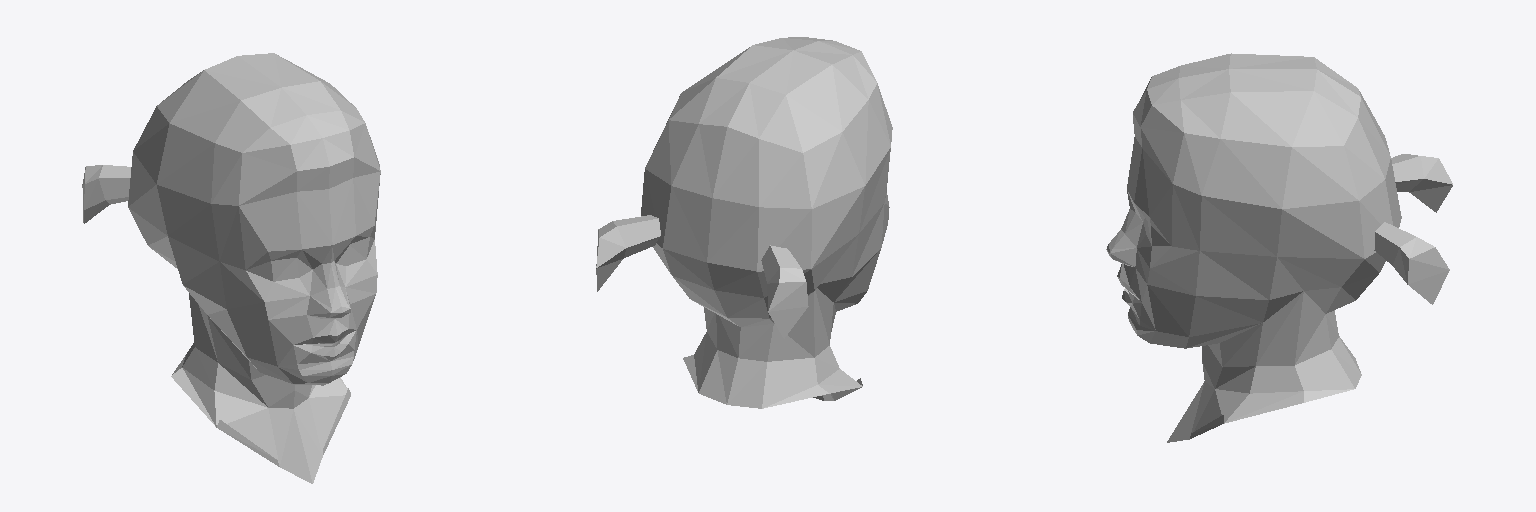
The model's file is Head.obj.
3 views of the same model, side by side, from view 1: azimuth 30°, elevation 25°; view 2: azimuth 150°, elevation 25°; view 3: azimuth 270°, elevation 25° (orthographic).
Visible parts, largest first — view 1: Head; view 2: Head; view 3: Head.
Boxes of the visible parts, x1,y1,x2,y2 form: Head: [82, 53, 380, 483]; Head: [596, 37, 892, 408]; Head: [1106, 53, 1452, 442].
Bounding box in the file's own units: 6.15 × 10.35 × 8.71.